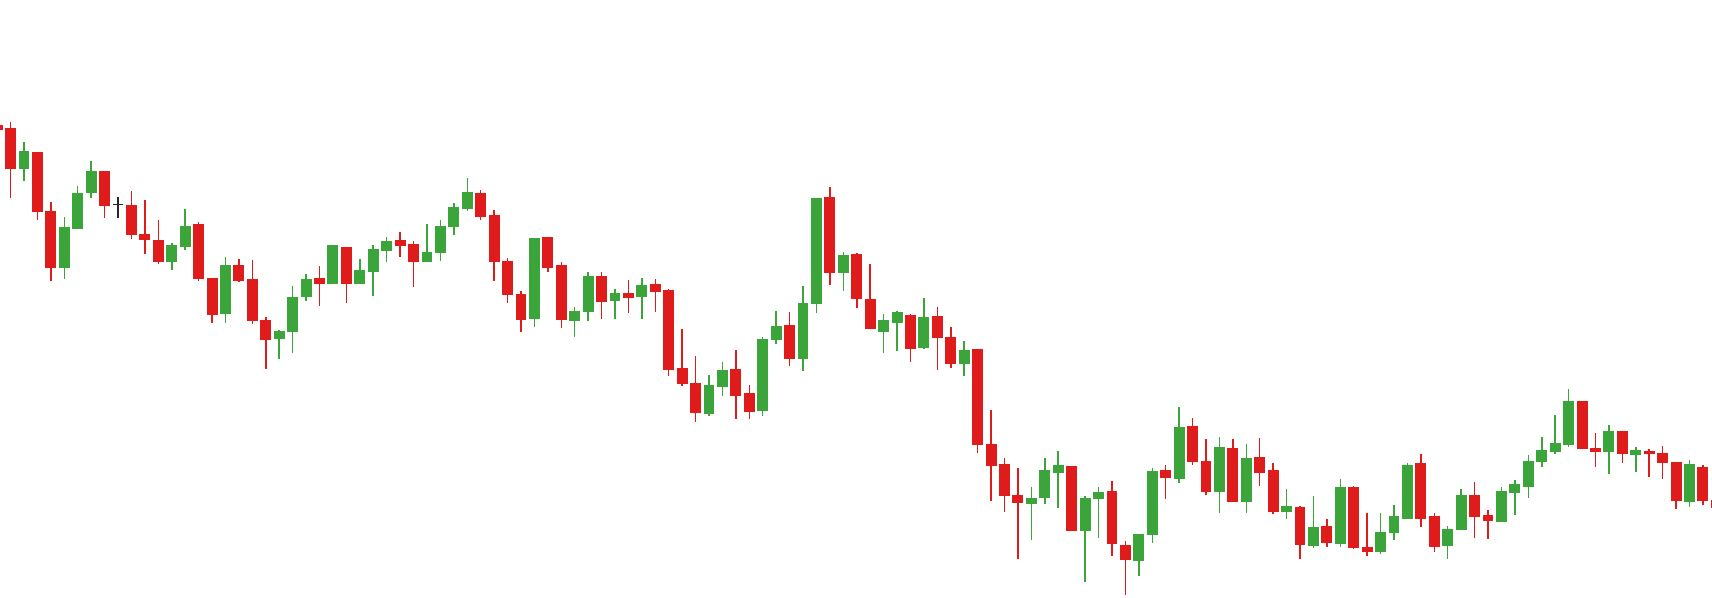buy: (1007, 482, 1093, 584)
sell: (526, 188, 836, 319)
